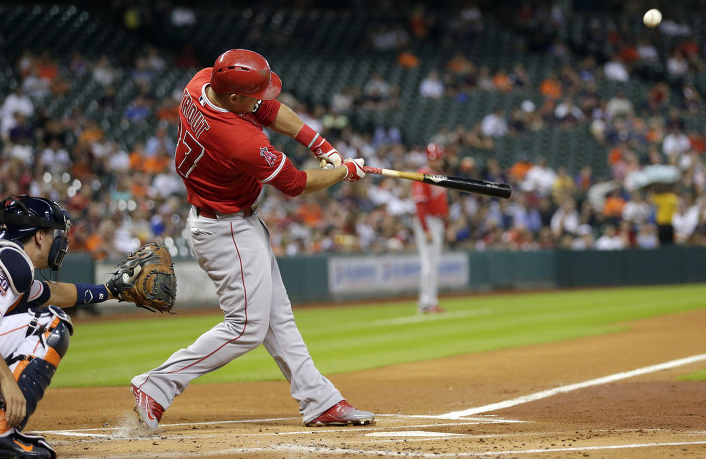ball: (640, 7, 663, 28)
